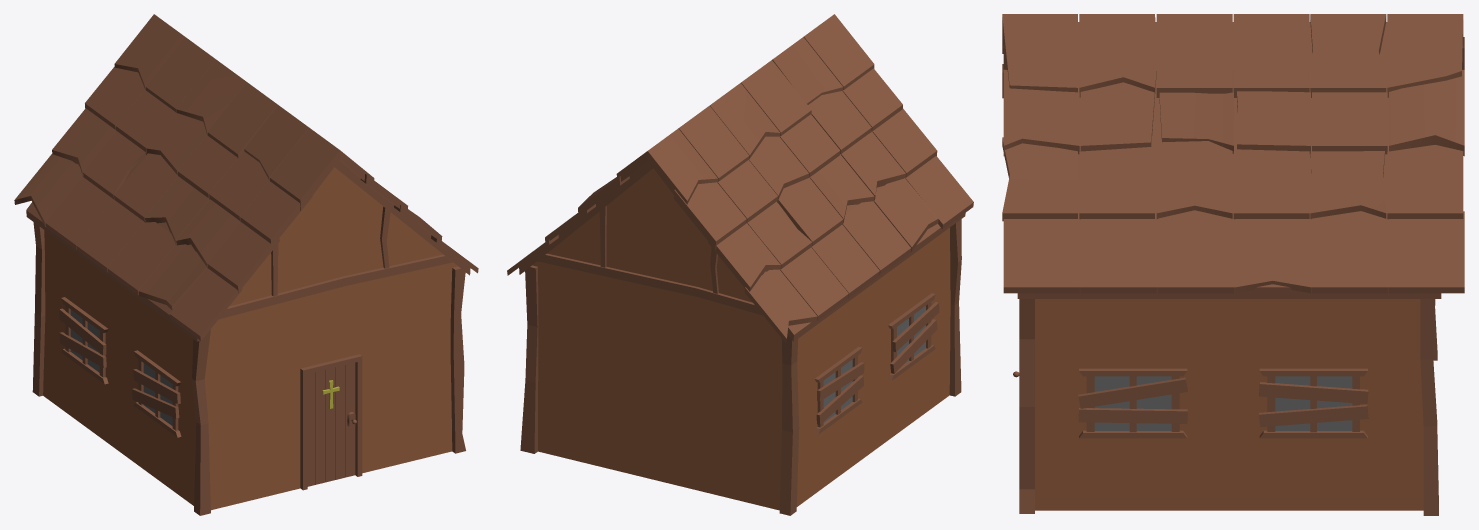
Rendered from CasaDoCoveiro.fbx.
The picture shows the model from 3 angles, left to right: view 1: azimuth 30°, elevation 25°; view 2: azimuth 150°, elevation 25°; view 3: azimuth 270°, elevation 25°; orthographic projection. The views are drawn at different scales.
Parts seen in each view (by area): view 1: CasaDoCoveiro.001; view 2: CasaDoCoveiro.001; view 3: CasaDoCoveiro.001.
Part boxes in pixels (x1,y1,x2,y2): CasaDoCoveiro.001: [14, 14, 478, 515]; CasaDoCoveiro.001: [507, 14, 973, 515]; CasaDoCoveiro.001: [1002, 14, 1464, 515].
Bounding box in the file's own units: 6.7 × 5.77 × 6.7.
